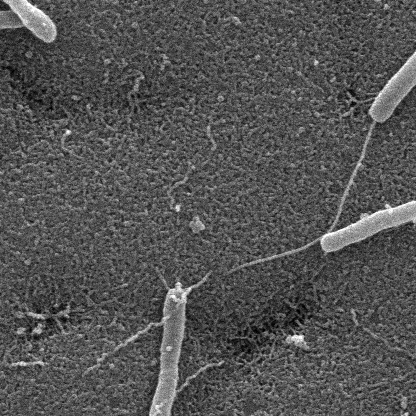cell2cell: (323, 119, 379, 238)
cell2surface: (227, 234, 323, 277), (164, 414, 236, 416)
filament: (368, 17, 416, 123), (0, 10, 29, 40)
regular: (319, 188, 416, 254), (145, 286, 188, 416), (0, 0, 58, 43)
